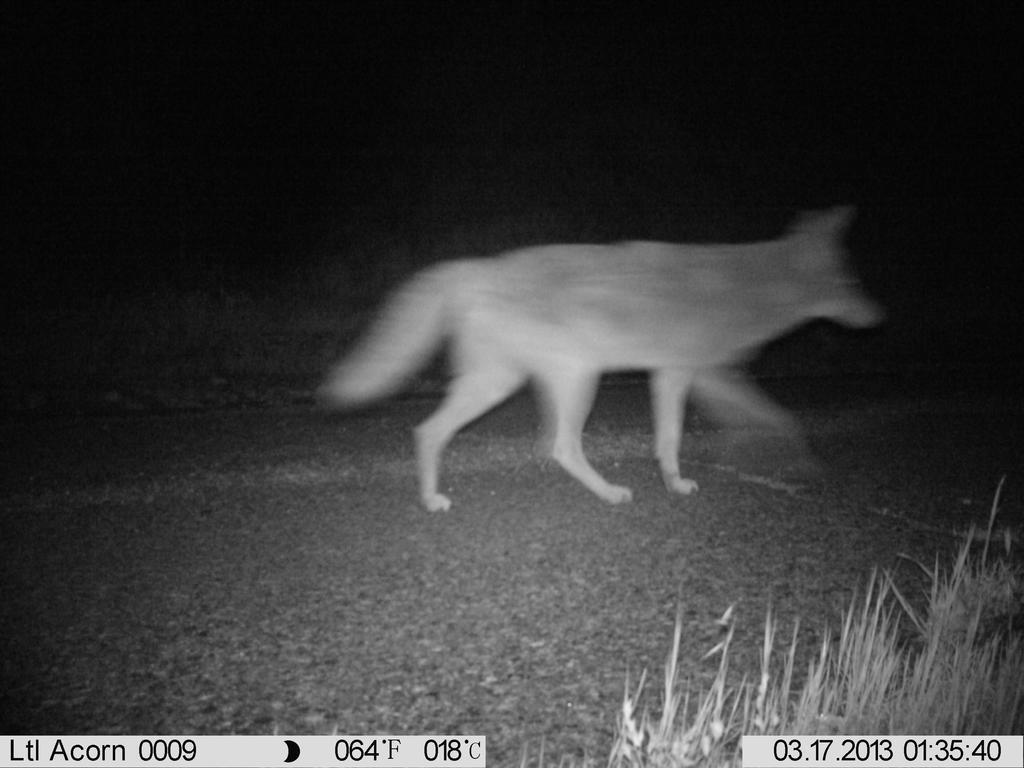coyote: (313, 197, 895, 513)
